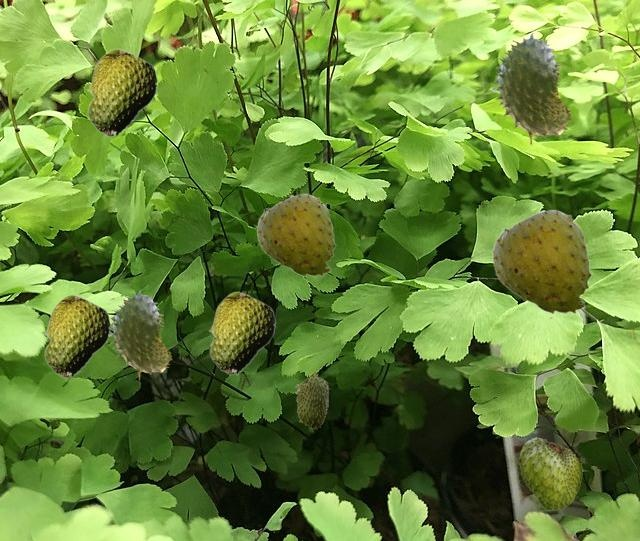guyabano: (490, 209, 591, 315), (492, 33, 571, 144), (255, 193, 335, 277), (86, 48, 157, 137), (208, 291, 275, 375), (43, 294, 110, 378), (108, 290, 171, 379), (519, 436, 581, 509), (295, 371, 329, 428)
